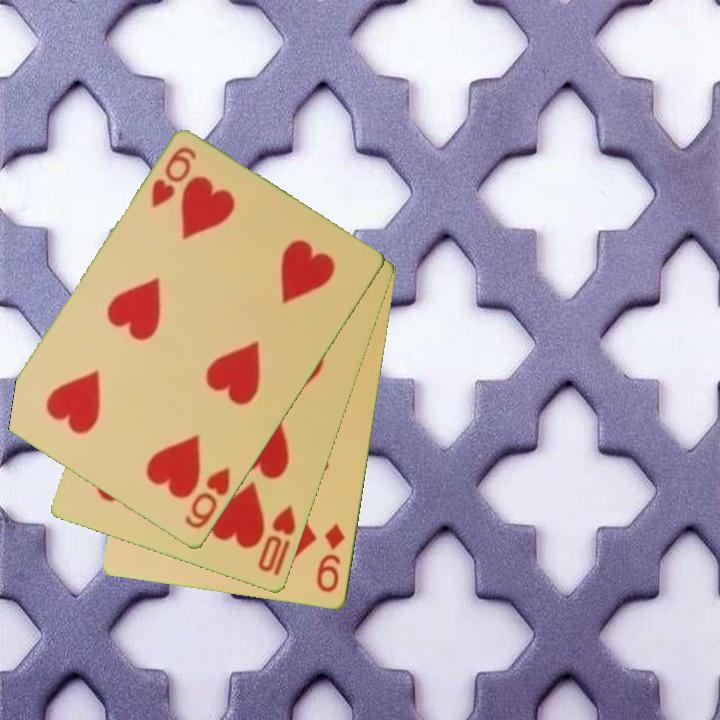10h: (254, 502, 299, 580)
6h: (181, 464, 234, 533), (147, 144, 200, 211)
9d: (313, 520, 349, 596)
